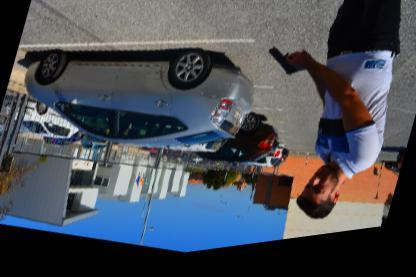pistol: (263, 49, 303, 86)
